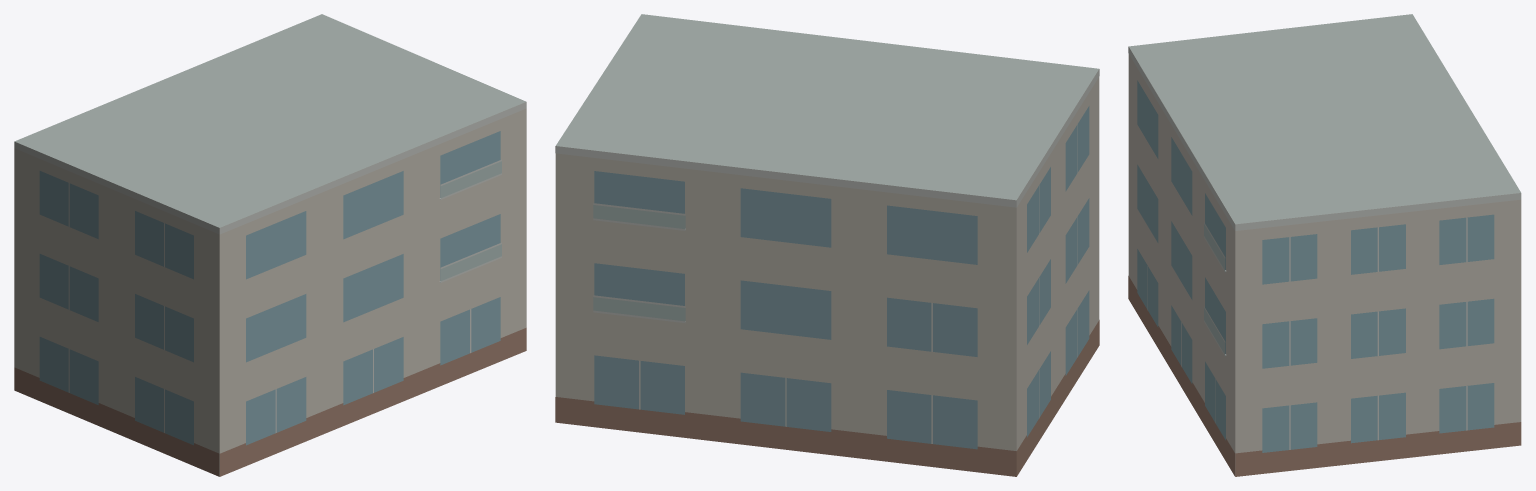
Rendered from survey-upis-32710914.glb.
3 views of the same model, side by side, from view 1: azimuth 30°, elevation 25°; view 2: azimuth 150°, elevation 25°; view 3: azimuth 270°, elevation 25° (orthographic). The views are drawn at different scales.
Parts seen in each view (by area): view 1: survey-upis-32710914.tmp; view 2: survey-upis-32710914.tmp; view 3: survey-upis-32710914.tmp.
Part boxes in pixels (x1,y1,x2,y2): survey-upis-32710914.tmp: (14,14,526,476); survey-upis-32710914.tmp: (555,14,1099,476); survey-upis-32710914.tmp: (1128,14,1521,476).
Bounding box in the file's own units: 16.36 × 9.15 × 12.91.
